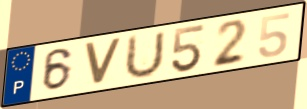2: (213, 18, 251, 69)
5: (168, 22, 207, 74), (257, 10, 292, 59)
6: (39, 47, 75, 93)
U: (121, 29, 167, 82)
V: (82, 37, 125, 86)
